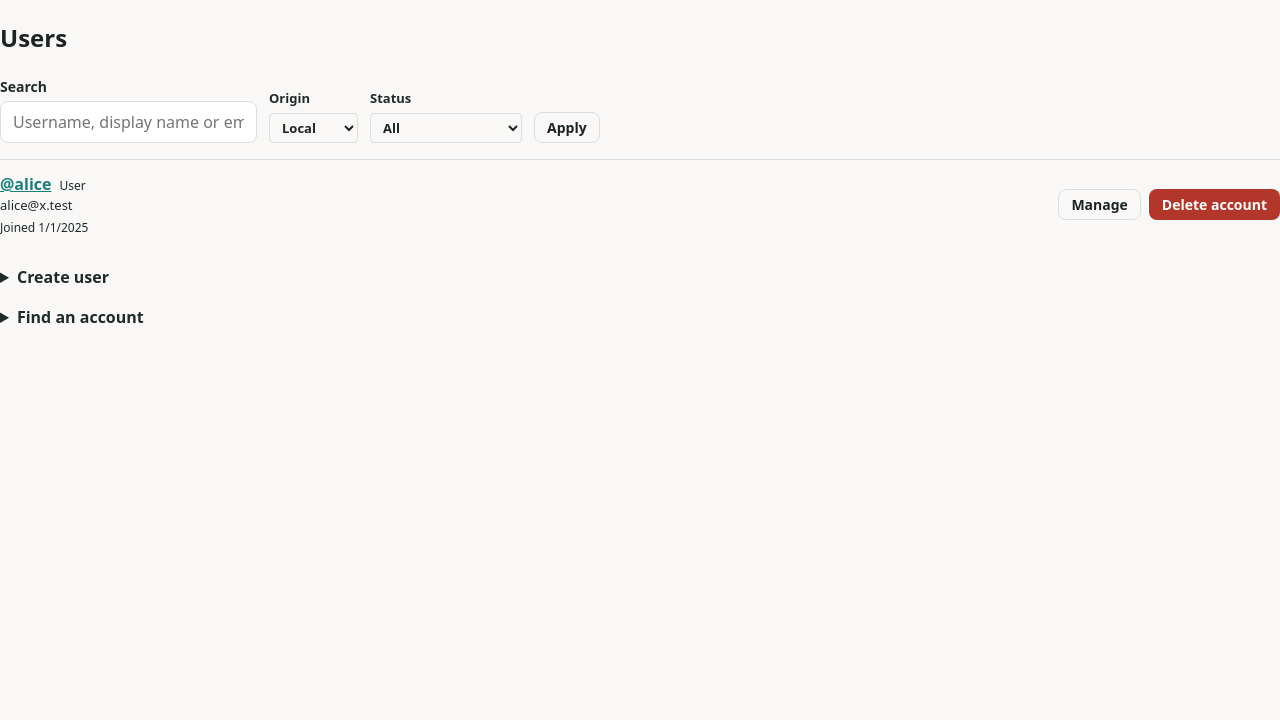
Scenario: AdminUsersPage › deletes an account after confirmation
The image size is (1280, 720).
Step 1. Click the button "Delete account" → (1214, 205), box top-left (1149, 189), bottom-right (1279, 220)
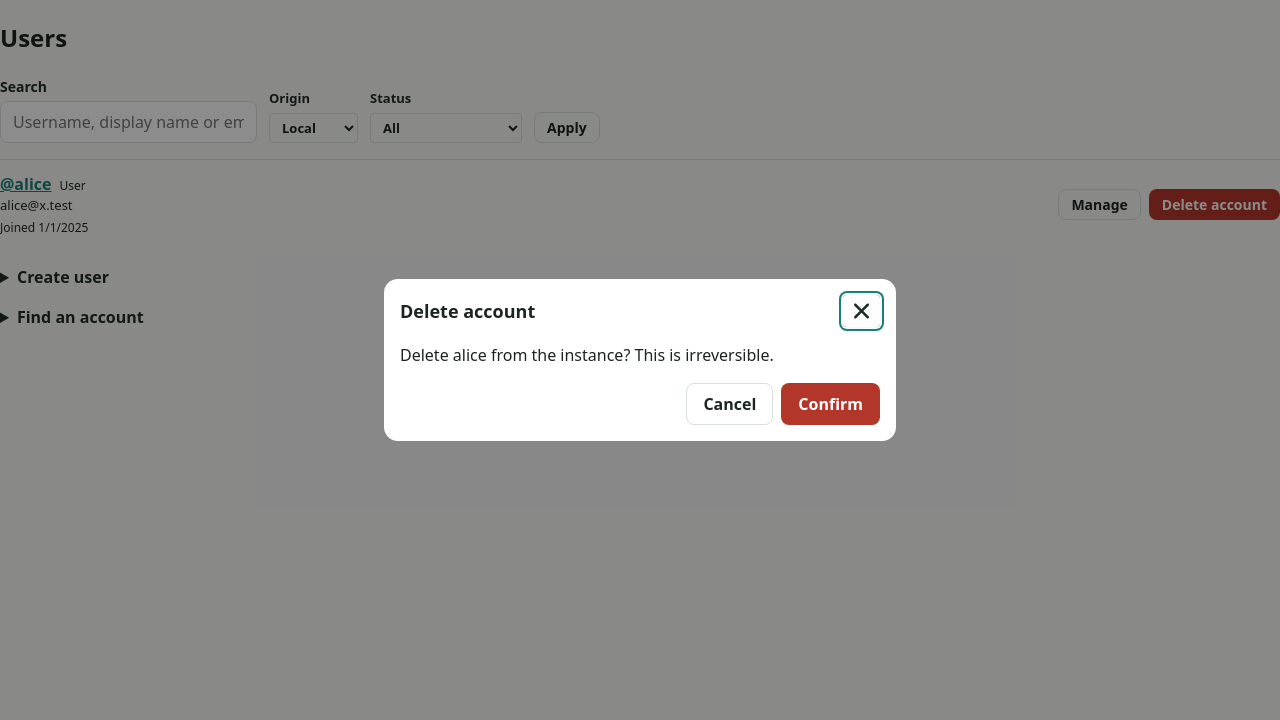
Step 2. Click the button with class "btn--danger" showing "Confirm" → (831, 404), box top-left (781, 383), bottom-right (880, 425)
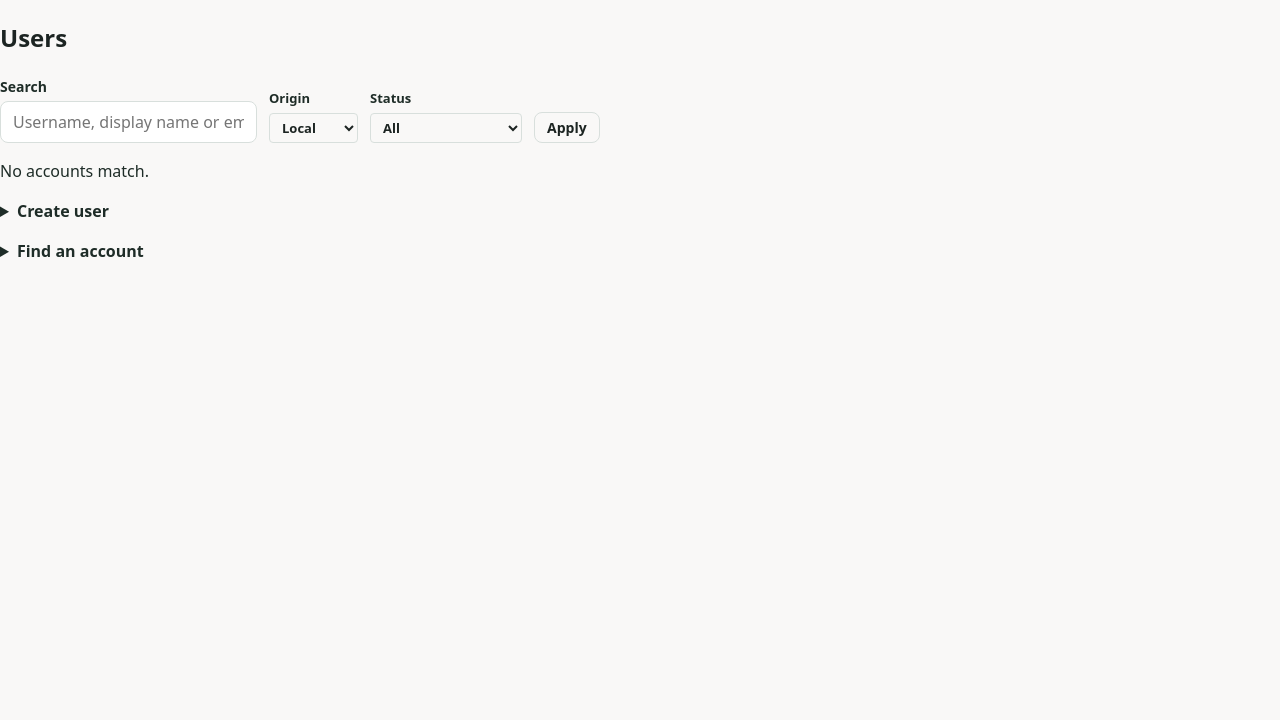
Check: the text "@alice" is gone
Check: the text "No accounts match" is shown, box top-left (0, 160), bottom-right (149, 182)
